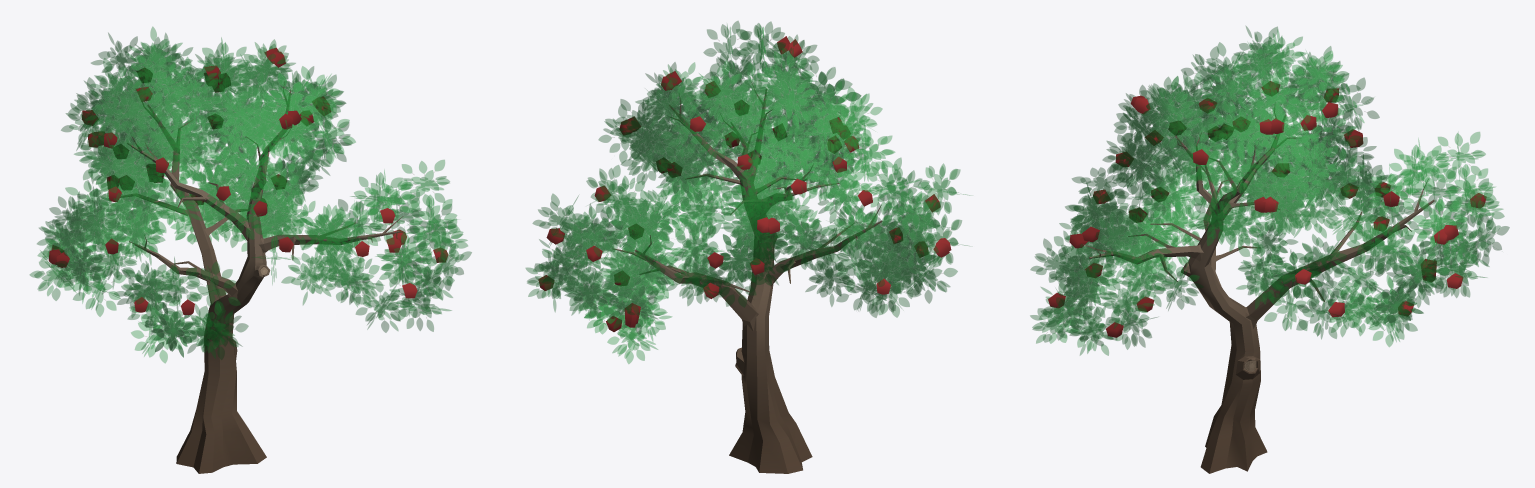
Rendered from PT_Fruit_Tree_01_apples.glb.
The picture shows the model from 3 angles, left to right: view 1: azimuth 30°, elevation 25°; view 2: azimuth 150°, elevation 25°; view 3: azimuth 270°, elevation 25°; orthographic projection.
Parts seen in each view (by area): view 1: PT_Fruit_Tree_01_apples_LOD0; view 2: PT_Fruit_Tree_01_apples_LOD0; view 3: PT_Fruit_Tree_01_apples_LOD0.
Part boxes in pixels (x1,y1,x2,y2): PT_Fruit_Tree_01_apples_LOD0: (30, 27, 471, 473); PT_Fruit_Tree_01_apples_LOD0: (525, 21, 969, 473); PT_Fruit_Tree_01_apples_LOD0: (1030, 26, 1509, 473).
Size of what is drawn, in the model's own units: 6.5 by 6.58 by 7.25.
Materials: 2 (2 with a texture image).
